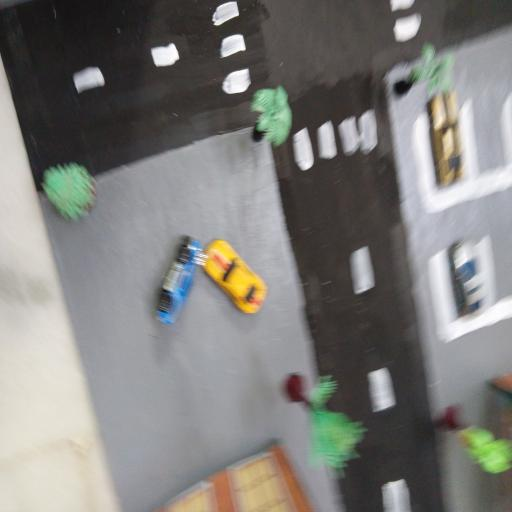car crash: (150, 235, 270, 324), (208, 235, 268, 318), (154, 234, 205, 330)
